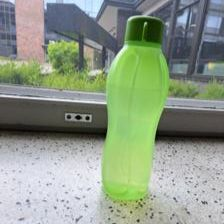bottle: (96, 15, 174, 201)
